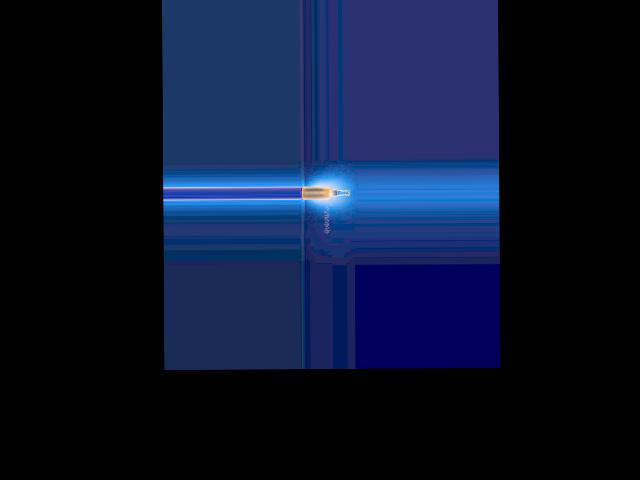beer: (301, 185, 349, 199)
